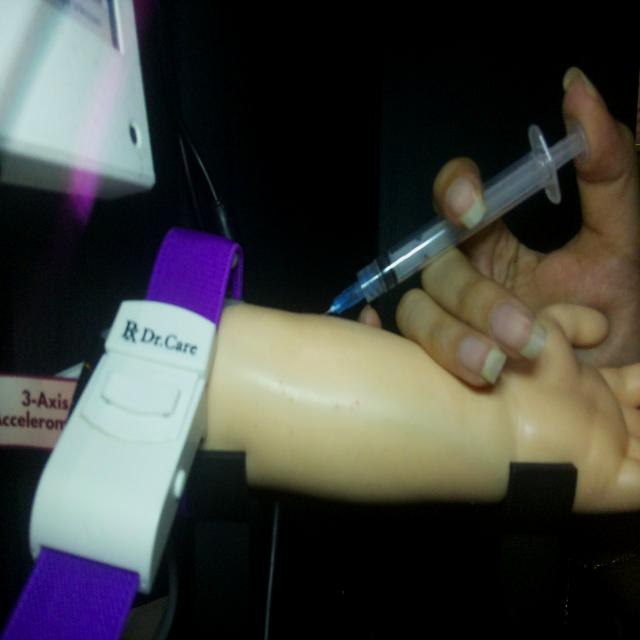25 degrees: (322, 116, 588, 319)
